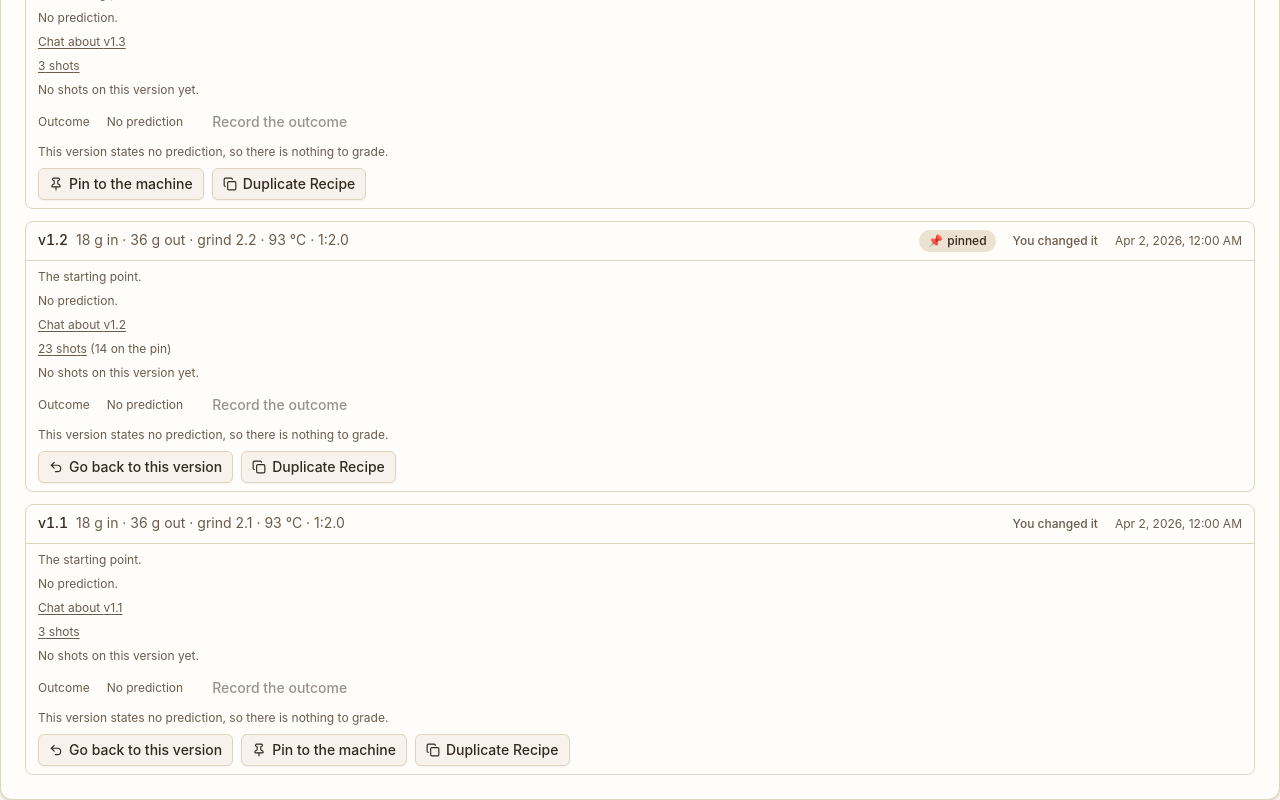
Test: the pin dialog › asks the preview first, then says what the machine gets, in the version's own words
(page scrolled)
Click the button "Pin to the machine" below "18 g in · 36 g out · grind 2.1 · 93 °C". click: (324, 750)
box: [241,734,407,766]
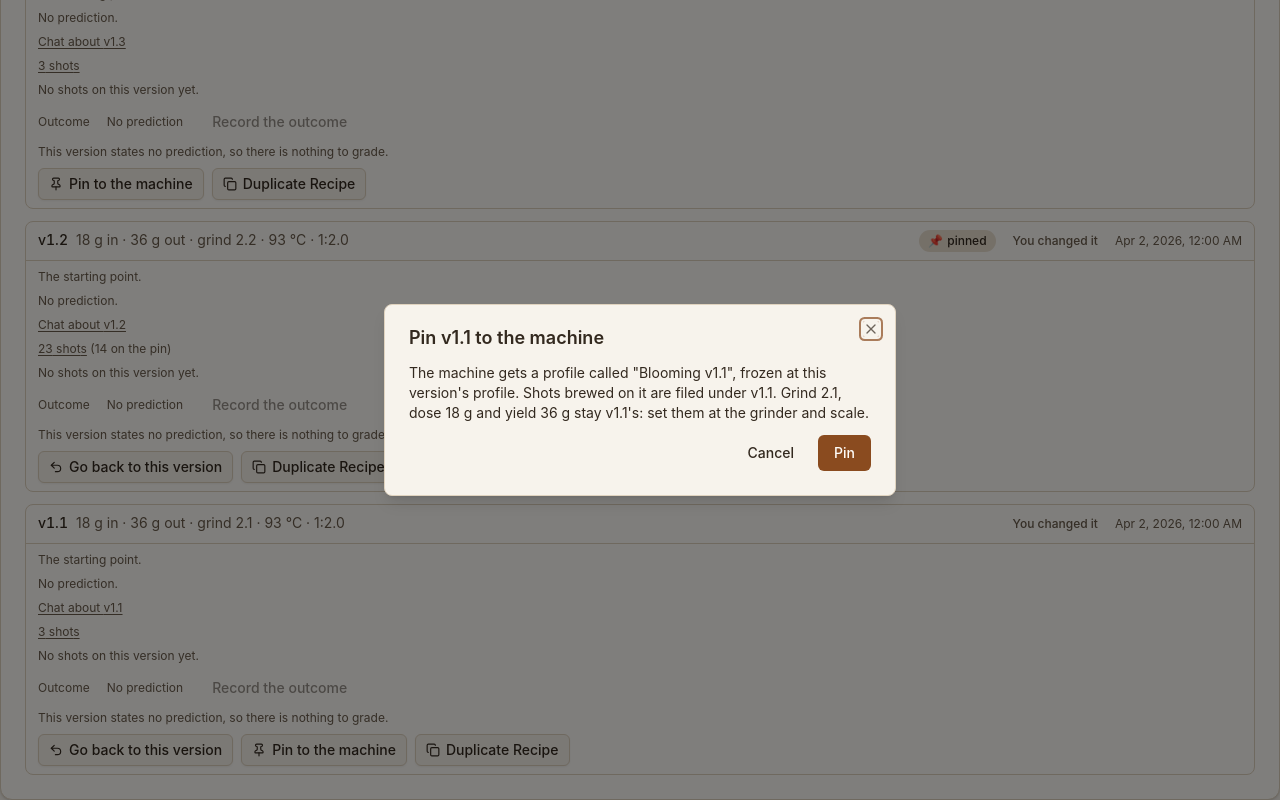
Expected: the text with test id "pin-explained" shows "The machine gets a profile called \"Blooming v1.1\", frozen at this version's profile.", [409,363,871,423]
Expected: the text with test id "pin-explained" shows "Shots brewed on it are filed under v1.1.", [409,363,871,423]
Expected: the text with test id "pin-explained" shows "Grind 2.1, dose 18 g and yield 36 g stay v1.1's: set them at the grinder and scale.", [409,384,869,421]
